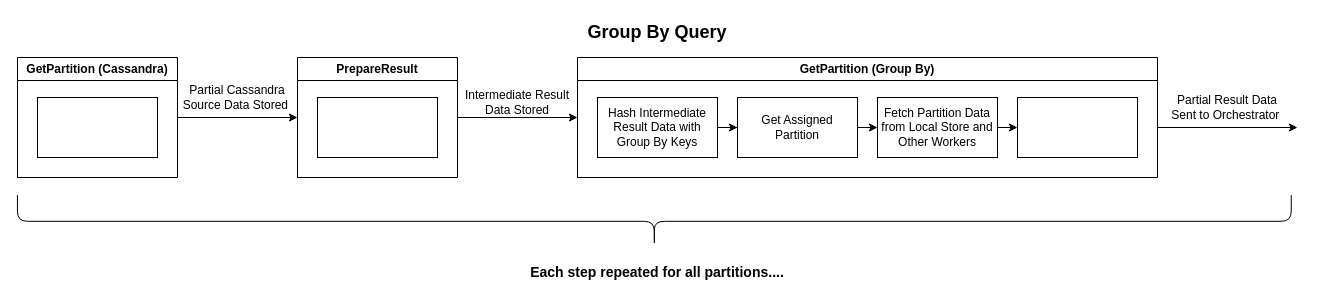
The diagram is 1324 pixels wide and 304 high, and some of its shapes have lost their labels. The shapes that lost their labels are listed below. From the top down, each one's box as (x1, y1, x2, y2) in pixels, then its label:
(36, 96, 158, 158): Fetch Partition Data From Cassandra
(316, 96, 438, 158): Row-Level Operations (Select/Filter)
(1016, 96, 1138, 158): Calculate Group By from Partition Data
